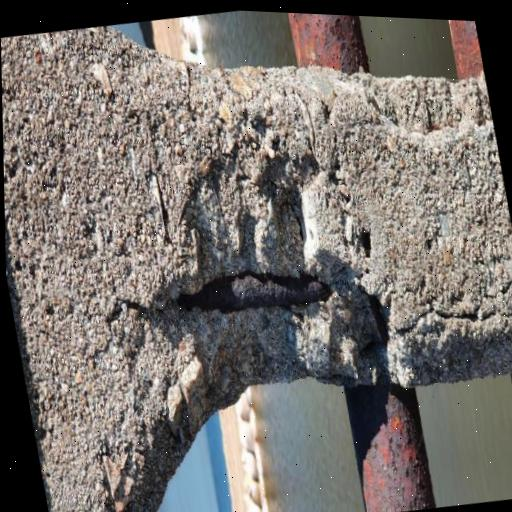exposed_rebar: (177, 271, 331, 313)
spalling: (84, 160, 389, 490)
